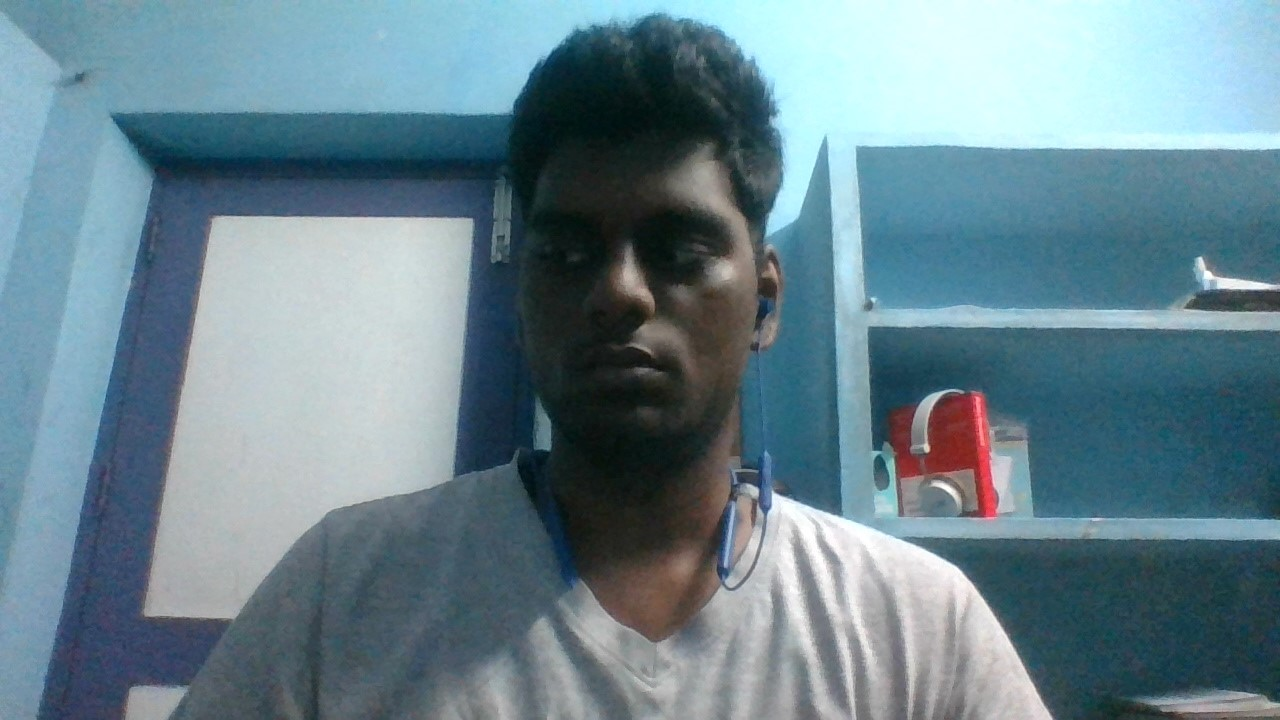person: (140, 17, 1054, 720)
